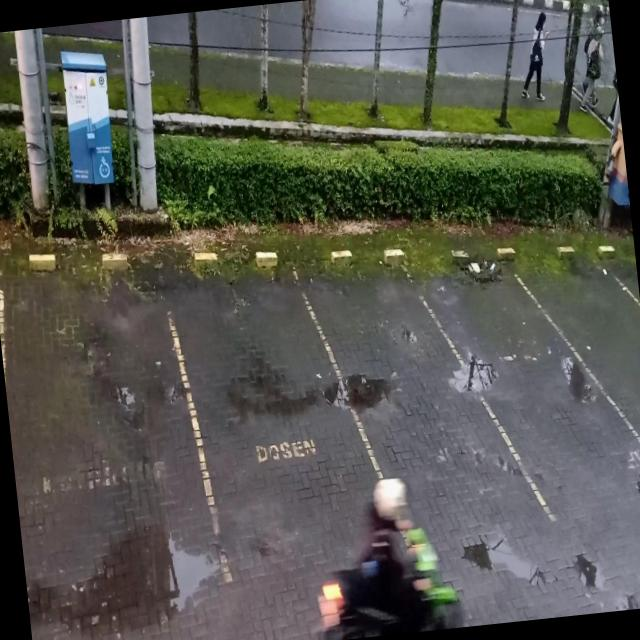free: (166, 258, 402, 584), (297, 245, 554, 527), (12, 264, 221, 606), (418, 258, 640, 524), (515, 250, 640, 447)
